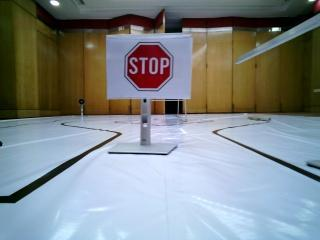stop: (104, 27, 191, 91)
